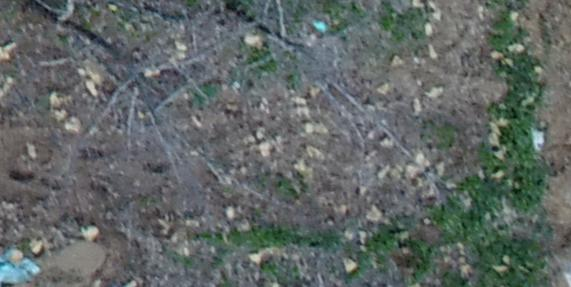apple: (10, 10, 213, 169)
